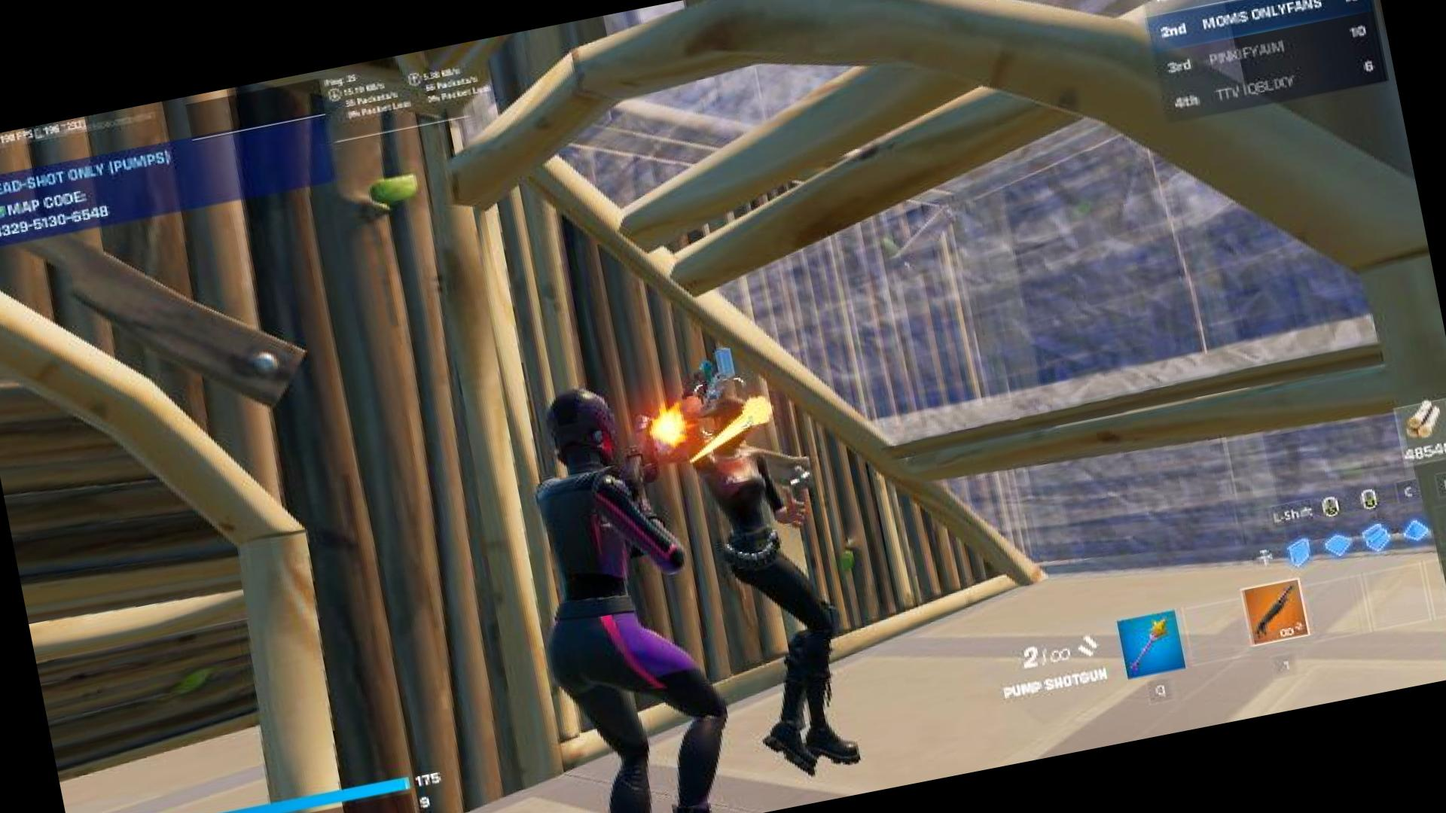player: (678, 376, 882, 789)
